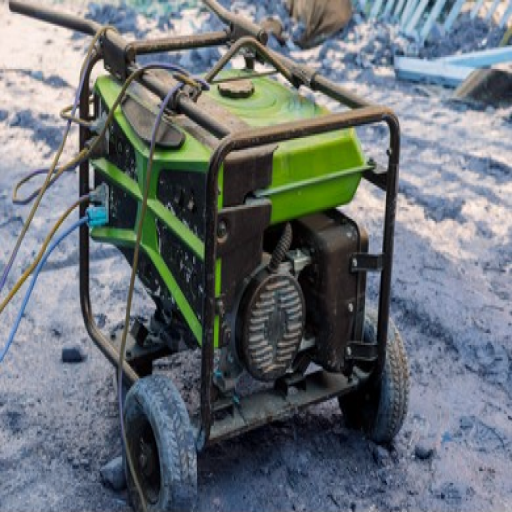portable_generator: (78, 27, 402, 453)
